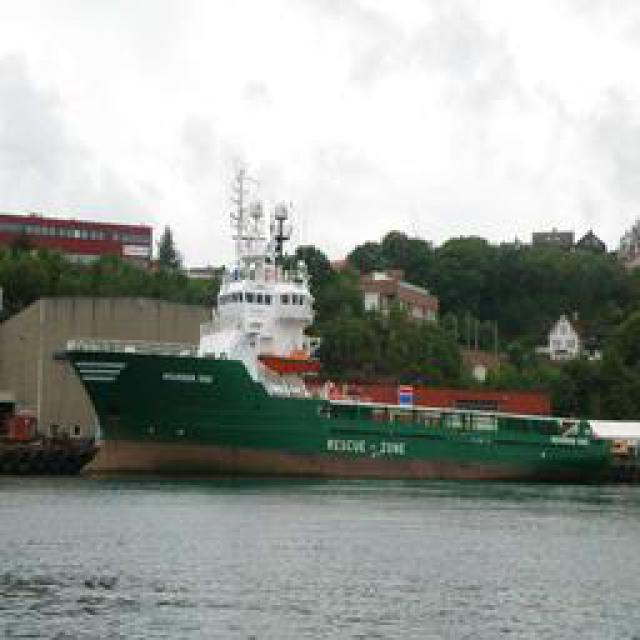Ship: (60, 378, 633, 486)
